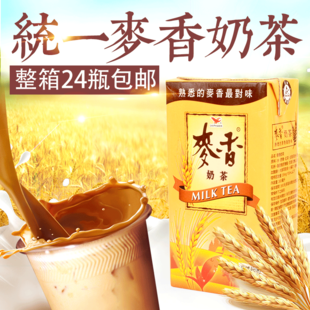milk tea: (165, 78, 297, 292)
